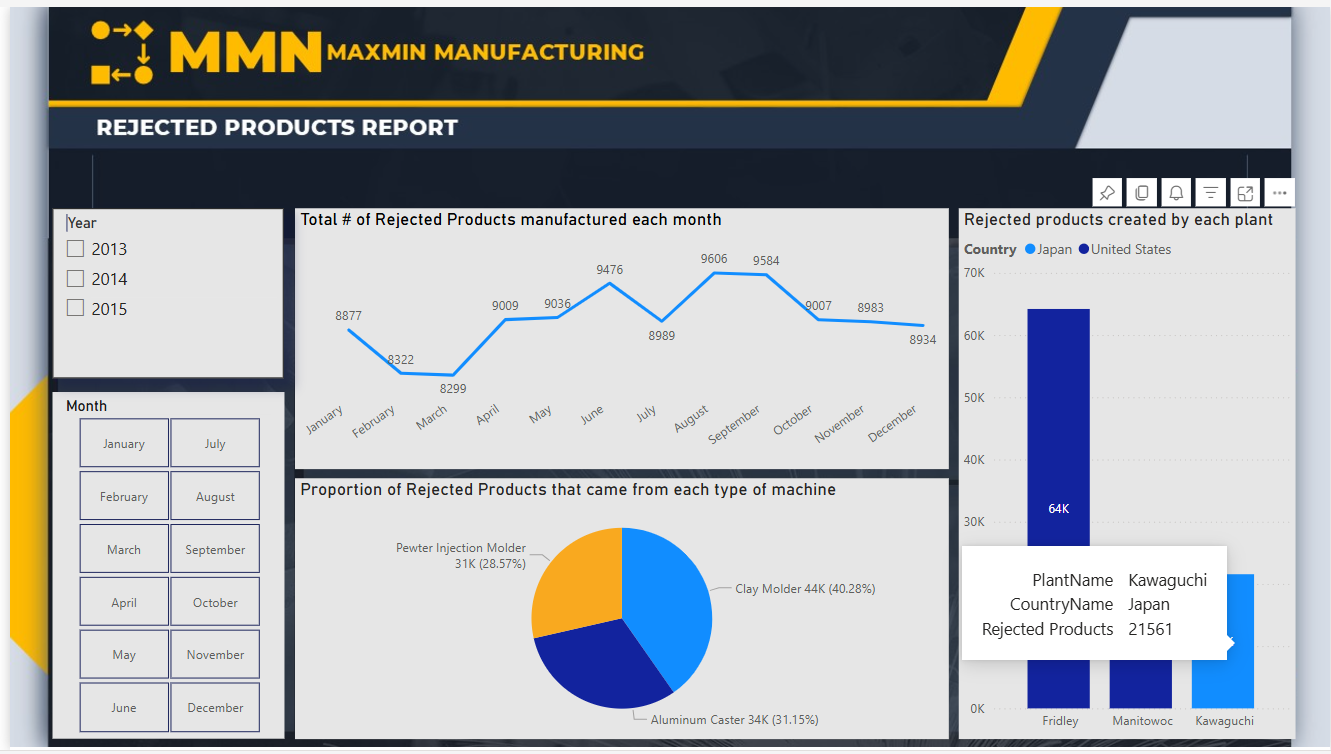

What the dashboard file says about the page in this screenshot:
{"tool":"powerbi","page":{"name":"Page 1","canvas":[1280,720],"ordinal":0},"visuals":[{"type":"columnChart","title":"Rejected products created by each plant ","fields":{"Category":["DimPlant.PlantName"],"Y":["Sum(FactManufacturing.RejectedProducts)"],"Series":["DimCountry.CountryName"]},"box":[919.4,194.9,326.6,514.6],"z":0},{"type":"lineChart","title":"Total # of Rejected Products manufactured each month","fields":{"Y":["Sum(FactManufacturing.RejectedProducts)"],"Category":["Date.Year Hierarchy.Month Name","Date.Year Hierarchy.Day"]},"box":[275.8,194.9,634,252.5],"z":1000},{"type":"slicer","fields":{"Values":["Date.Year Hierarchy.Month Name"]},"box":[41.2,373.2,225,336.2],"z":2000},{"type":"slicer","fields":{"Values":["Date.Year Hierarchy.Year"]},"box":[41.2,194.9,223.7,164.7],"z":3000},{"type":"pieChart","title":"Proportion of Rejected Products that came from each type of machine","fields":{"Category":["DimMachineType.MachineType"],"Y":["Sum(FactManufacturing.RejectedProducts)"]},"box":[275.8,456.9,634,252.5],"z":4000}]}

Visuals, with their boxes on the page's 1280x720 design canvas (x1, y1, x2, y2). These are canvas units, not pixel positions in the 1331x754 screenshot, which may show the page scaled, cropped or inside an application window:
"Rejected products created by each plant " columnChart: pyautogui.locateOnScreen(919, 195, 1246, 710)
"Total # of Rejected Products manufactured each month" lineChart: pyautogui.locateOnScreen(276, 195, 910, 447)
slicer - Date.Year Hierarchy.Month Name: pyautogui.locateOnScreen(41, 373, 266, 709)
slicer - Date.Year Hierarchy.Year: pyautogui.locateOnScreen(41, 195, 265, 360)
"Proportion of Rejected Products that came from each type of machine" pieChart: pyautogui.locateOnScreen(276, 457, 910, 709)
